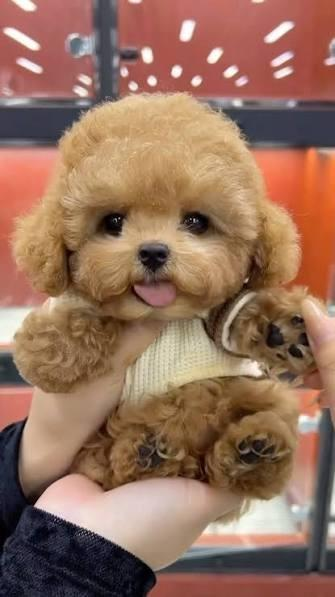puppy-dog: (9, 89, 319, 525)
